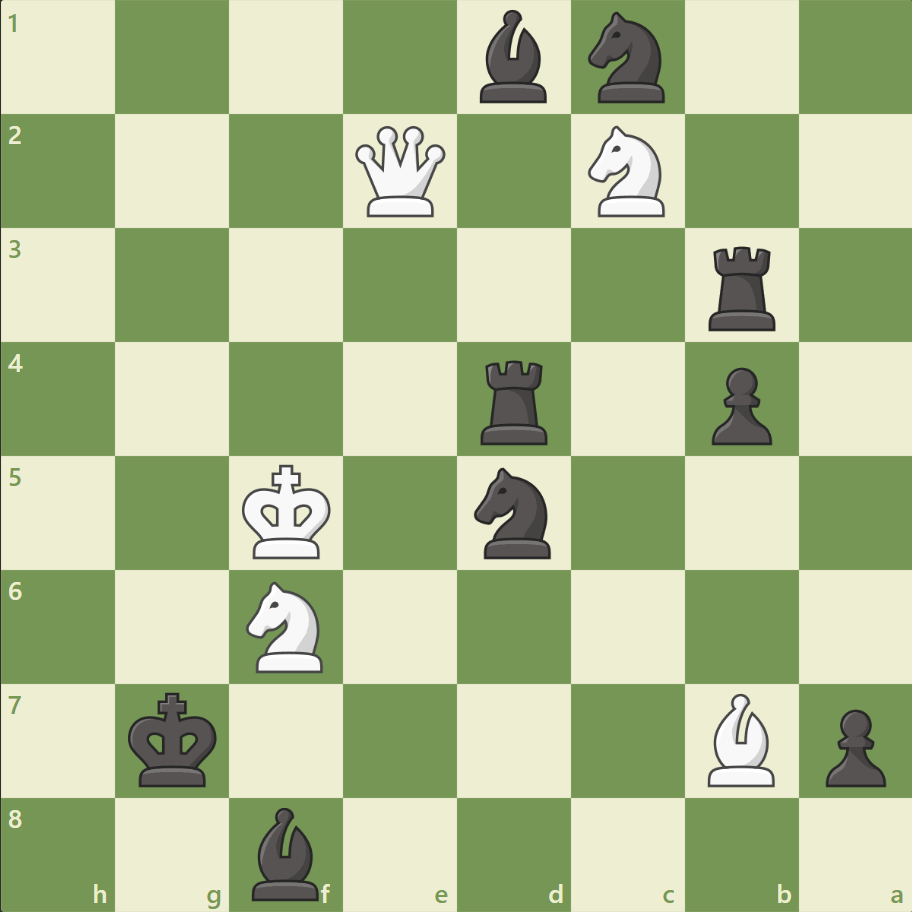B: (698, 687, 782, 790)
K: (238, 458, 338, 566)
N: (238, 575, 335, 677), (579, 121, 676, 223)
Q: (351, 122, 450, 222)
b: (244, 801, 328, 904), (471, 6, 555, 109)
k: (124, 685, 224, 793)
n: (465, 461, 562, 564), (579, 7, 676, 110)
p: (701, 359, 776, 450), (815, 700, 889, 791)
r: (473, 352, 556, 449), (700, 239, 783, 336)
